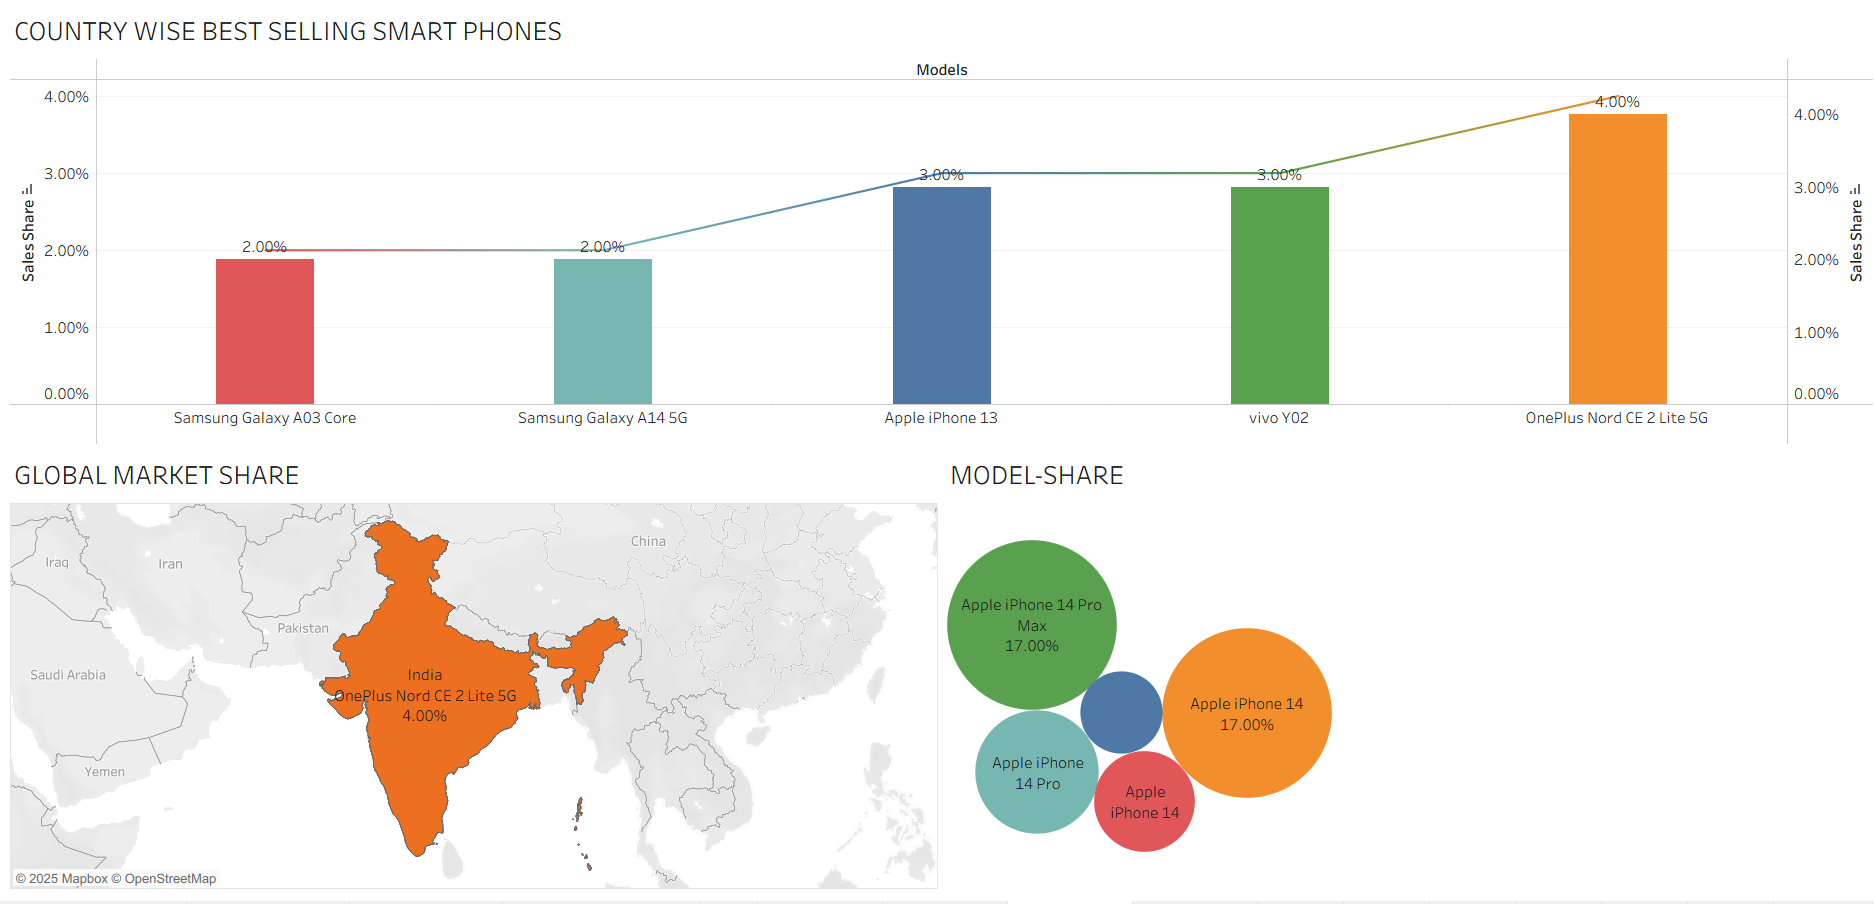

Layout of this report page (visuals, bound fields, positions):
{"tool":"tableau","page":{"name":"Dashboard 3","canvas":[1000,1000],"units":"permille","ordinal":2},"visuals":[{"type":"worksheet","title":"COUNTRY WISE BEST SELLING SMART PHONES","mark":"Automatic","rows":["Sales Share","Sales Share"],"cols":["Models"],"box":[4.8,10,971.3,490]},{"type":"filter","title":"COUNTRY WISE BEST SELLING SMART PHONES","param":"[federated.0qa1yx71y4z0zm13r1wua0diti6k].[none:Country:nk]","box":[976.1,10,19.2,76.2]},{"type":"legend","title":"COUNTRY WISE BEST SELLING SMART PHONES","param":"[federated.0qa1yx71y4z0zm13r1wua0diti6k].[none:Models:nk]","box":[976.1,86.2,19.2,168.5]},{"type":"filter","title":"GLOBAL MARKET SHARE","param":"[federated.0qa1yx71y4z0zm13r1wua0diti6k].[none:Country:nk]","box":[976.1,254.7,19.2,76.2]},{"type":"legend","title":"GLOBAL MARKET SHARE","param":"[federated.0qa1yx71y4z0zm13r1wua0diti6k].[none:Country:nk]","box":[976.1,330.9,19.2,63.7]},{"type":"legend","title":"MODEL-SHARE","param":"[federated.1npv4mx01yintb13ojd7l1myr1ho].[none:Models:nk]","box":[976.1,394.5,19.2,168.5]},{"type":"worksheet","title":"GLOBAL MARKET SHARE","mark":"Multipolygon","box":[4.8,500,485.6,490]},{"type":"worksheet","title":"MODEL-SHARE","mark":"Circle","box":[490.4,500,485.6,490]}]}

Visuals, with their boxes on the dashboard's canvas, which has no fixed pixel size, in thousandths of its width and height (x1, y1, x2, y2). These are canvas units, not pixel positions in the 1874x904 screenshot, which may show the page scaled, cropped or inside an application window:
"COUNTRY WISE BEST SELLING SMART PHONES" worksheet: bbox=(5, 10, 976, 500)
"COUNTRY WISE BEST SELLING SMART PHONES" filter: bbox=(976, 10, 995, 86)
"COUNTRY WISE BEST SELLING SMART PHONES" legend: bbox=(976, 86, 995, 255)
"GLOBAL MARKET SHARE" filter: bbox=(976, 255, 995, 331)
"GLOBAL MARKET SHARE" legend: bbox=(976, 331, 995, 395)
"MODEL-SHARE" legend: bbox=(976, 394, 995, 563)
"GLOBAL MARKET SHARE" worksheet (Multipolygon marks): bbox=(5, 500, 490, 990)
"MODEL-SHARE" worksheet (Circle marks): bbox=(490, 500, 976, 990)
